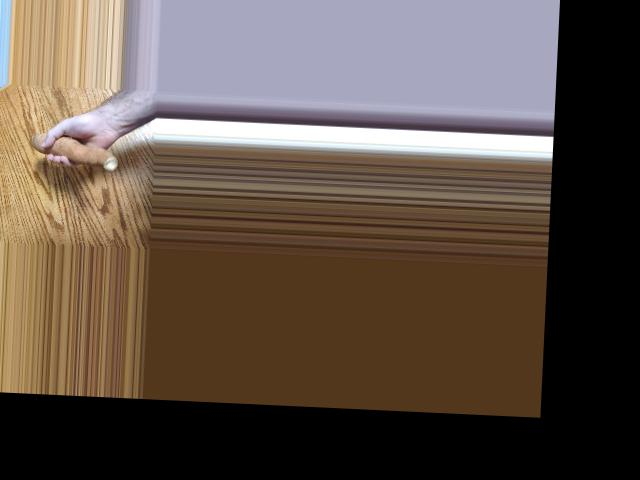sweet_potato: (38, 128, 126, 167)
